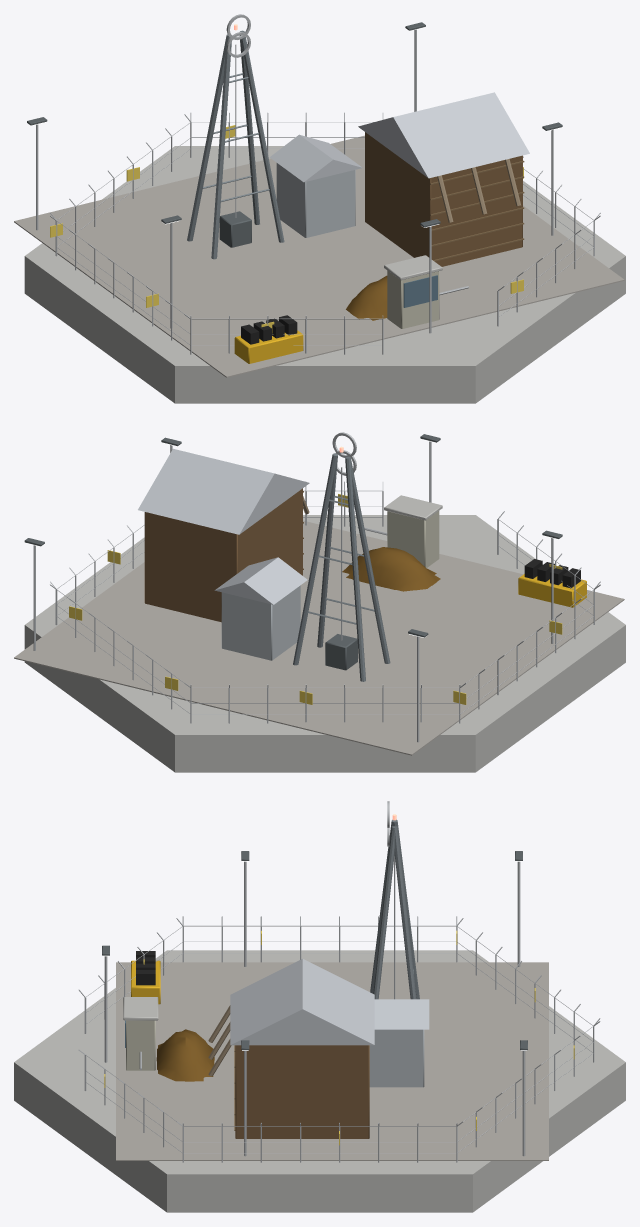
Rendered from extractor_gold.glb.
3 views of the same model, one above another, from view 1: azimuth 30°, elevation 25°; view 2: azimuth 150°, elevation 25°; view 3: azimuth 270°, elevation 25° (orthographic).
Parts seen in each view (by area): view 1: gravel, wall_concrete, cladding, metal, paint, hazard, wood, steel_dark, earth, dark, glass; view 2: gravel, wall_concrete, cladding, metal, paint, earth, hazard, steel_dark, dark; view 3: gravel, wall_concrete, cladding, metal, paint, earth, hazard, wood, dark.
Boxes of the visible parts, box(x1,y1,x2,y2) form: gravel: box(14, 135, 624, 377); wall_concrete: box(24, 146, 625, 403); cladding: box(269, 92, 529, 328); metal: box(36, 14, 600, 354); paint: box(187, 30, 284, 259); hazard: box(50, 125, 523, 363); wood: box(430, 159, 524, 261); steel_dark: box(27, 22, 562, 247); earth: box(346, 275, 387, 320); dark: box(241, 315, 297, 344); glass: box(403, 275, 437, 307); gravel: box(14, 520, 624, 755); wall_concrete: box(24, 495, 625, 772); cladding: box(138, 448, 439, 660); metal: box(33, 432, 600, 742); paint: box(293, 453, 390, 681); earth: box(342, 547, 440, 591); hazard: box(69, 494, 586, 704); steel_dark: box(24, 434, 562, 670); dark: box(524, 559, 580, 588); gravel: box(116, 962, 548, 1160); wall_concrete: box(14, 950, 625, 1212); cladding: box(126, 958, 429, 1138); metal: box(78, 801, 600, 1162); paint: box(370, 819, 419, 999); earth: box(156, 1029, 214, 1081); hazard: box(104, 930, 574, 1145); wood: box(208, 1005, 235, 1130); dark: box(136, 951, 155, 985).
Bounding box in the file's own units: 21.3 × 12.04 × 24.6.
